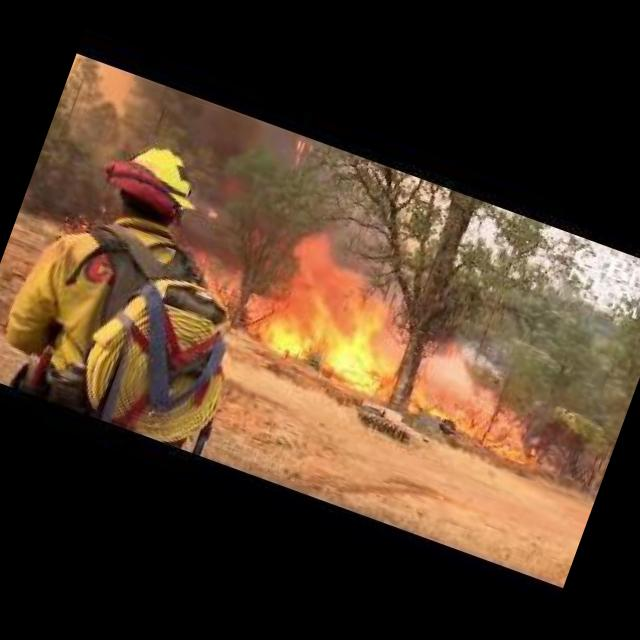fire: (231, 211, 438, 414), (401, 372, 555, 476)
